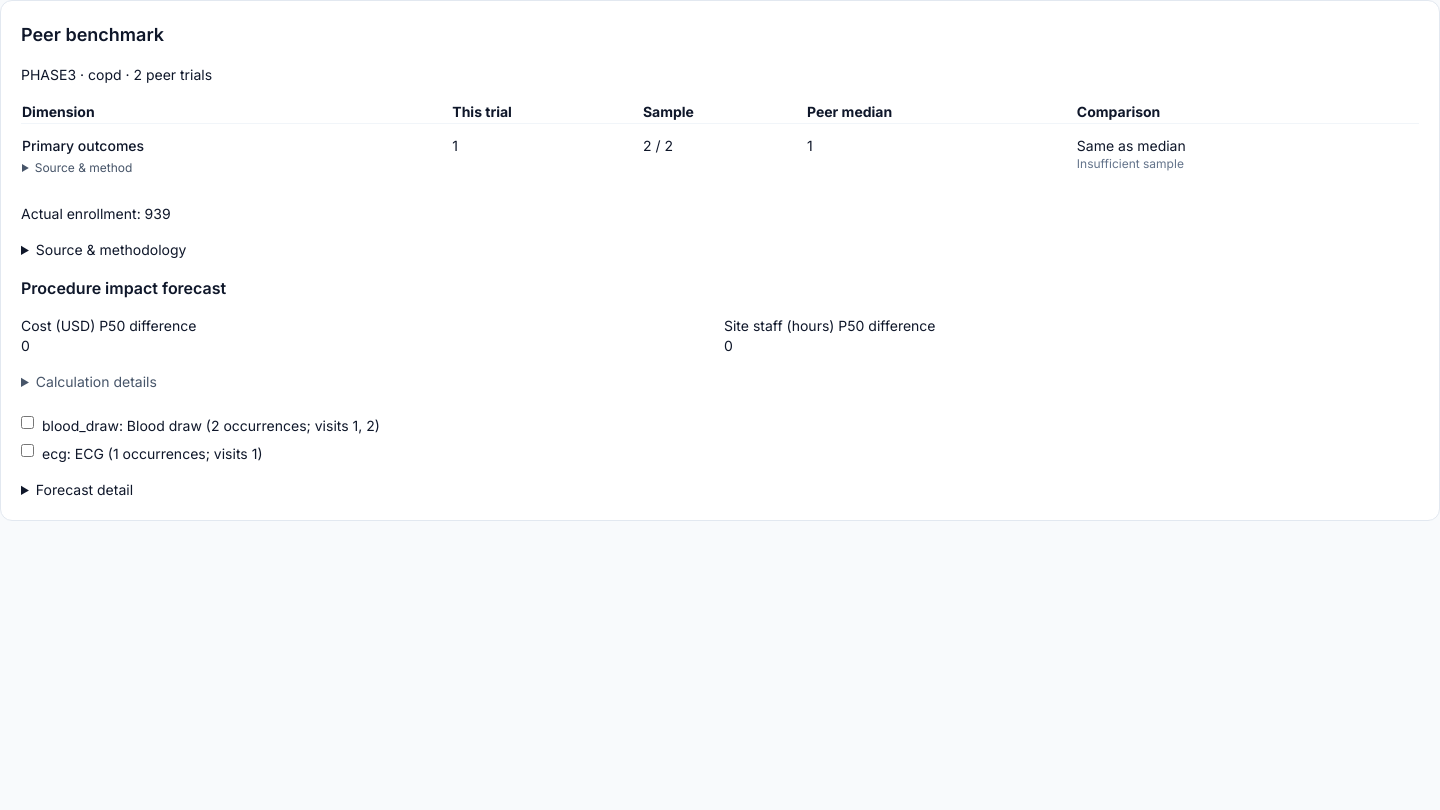
Test: PeerMirror › selects procedure codes and displays server-engine ranges and per-draw deltas without local arithmetic
Expected: the element with test id "peer-costs" is shown, top-left (36, 481), bottom-right (133, 498)
Click the checkbox labelled "blood_draw: Blood draw (2 occurrences; visits 1, 2)" at (28, 422), box top-left (21, 416), bottom-right (34, 429)
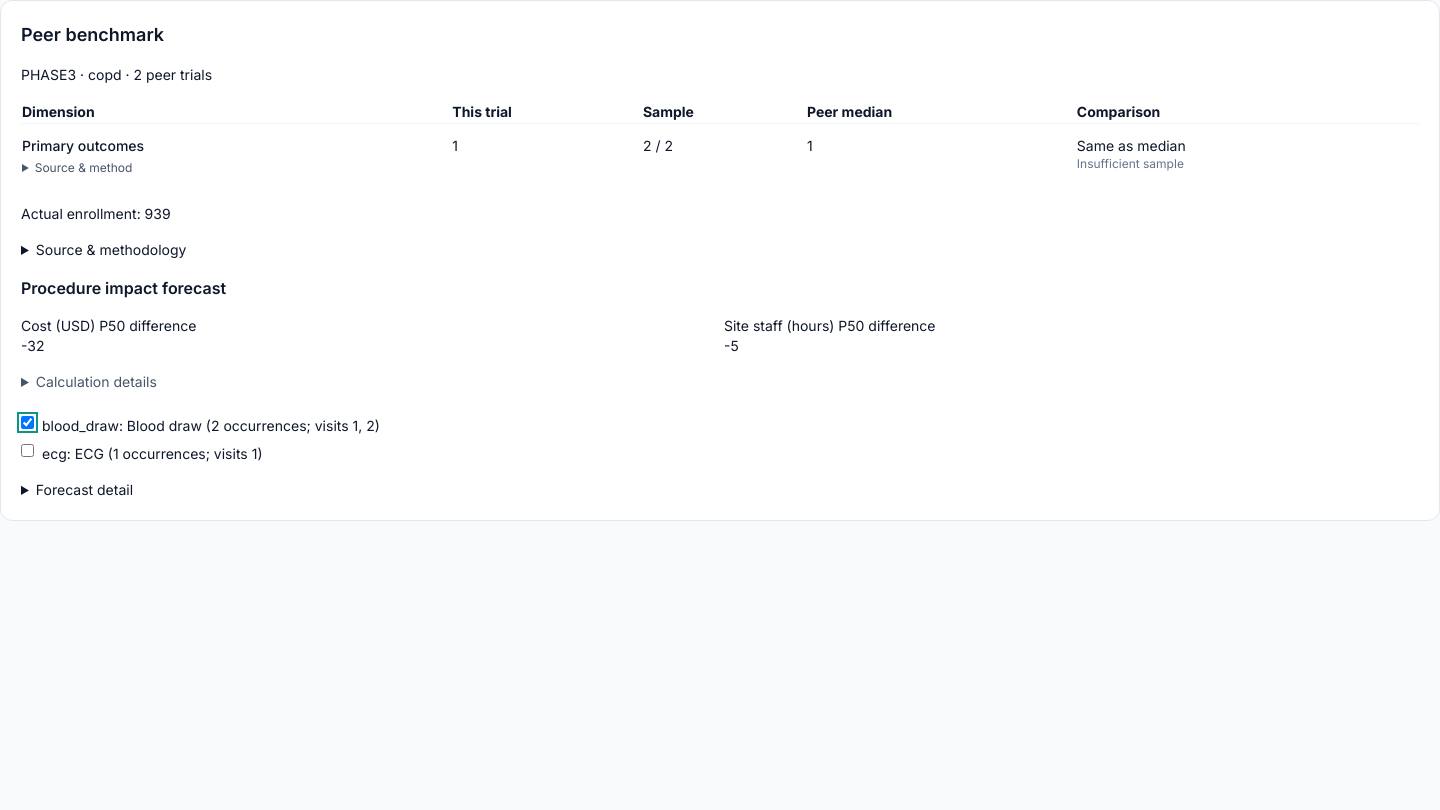
Expected: the heading "Procedure impact forecast" is shown, top-left (21, 278), bottom-right (226, 298)
Click the heading "Forecast detail" at (84, 490), box top-left (36, 481), bottom-right (133, 498)
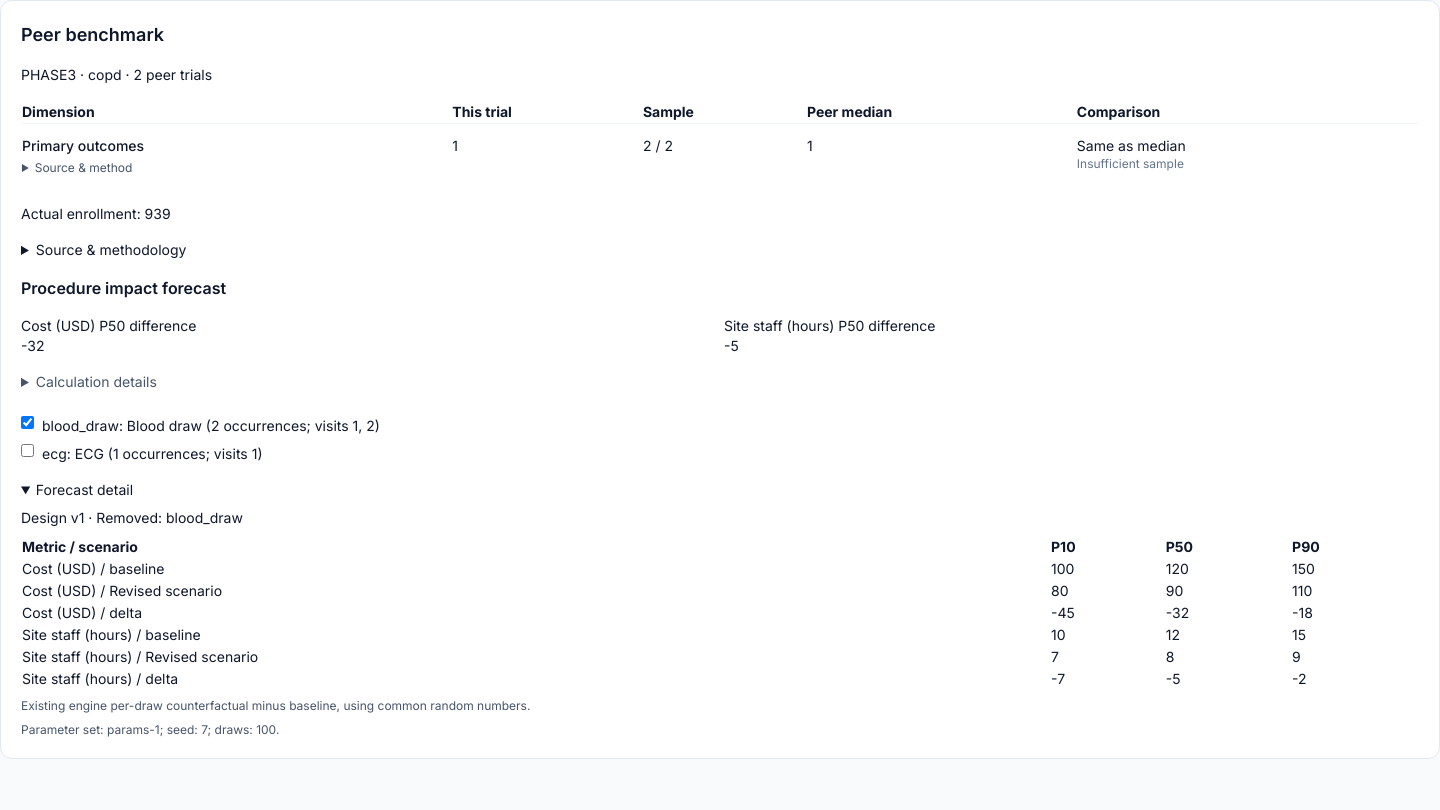
Result: the text with test id "cost_usd-p50-difference" reads "-32" at top-left (21, 337), bottom-right (44, 354)
Result: the text with test id "site_staff_hours-p50-difference" reads "-5" at top-left (724, 337), bottom-right (739, 354)
Result: the cells read "100", "120", "150", in this order at top-left (1050, 558), bottom-right (1165, 580); top-left (1165, 558), bottom-right (1291, 580); top-left (1291, 558), bottom-right (1419, 580)
